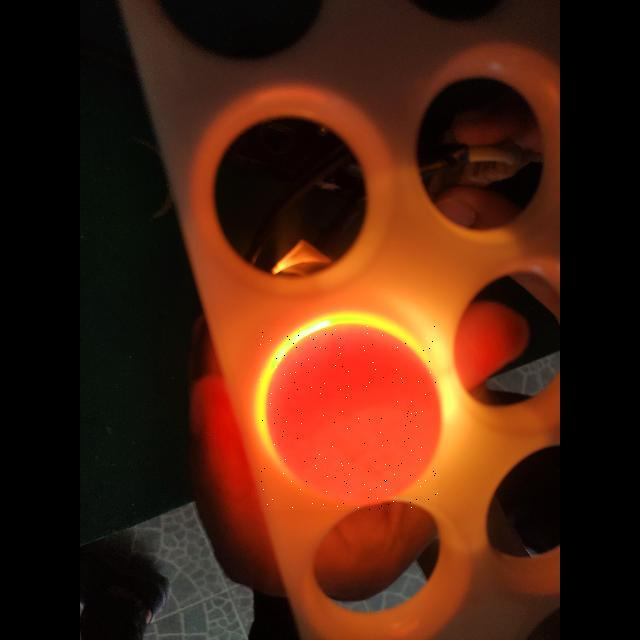A - Good: (260, 326, 438, 510)
